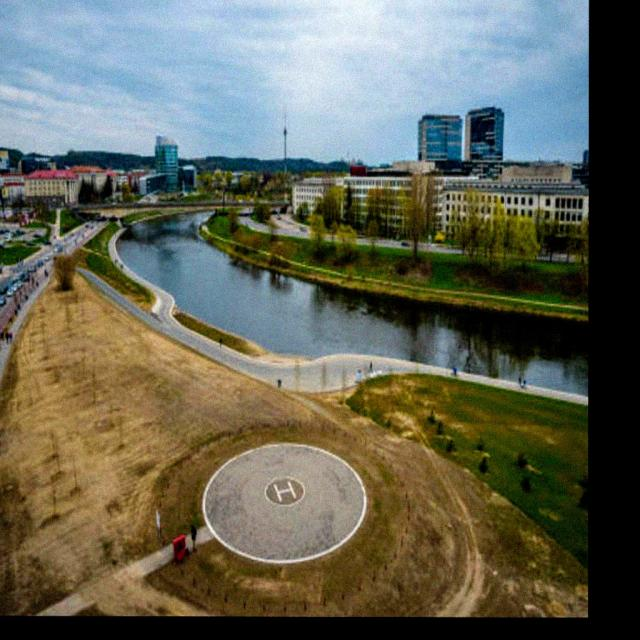helipad: (262, 472, 306, 508)
